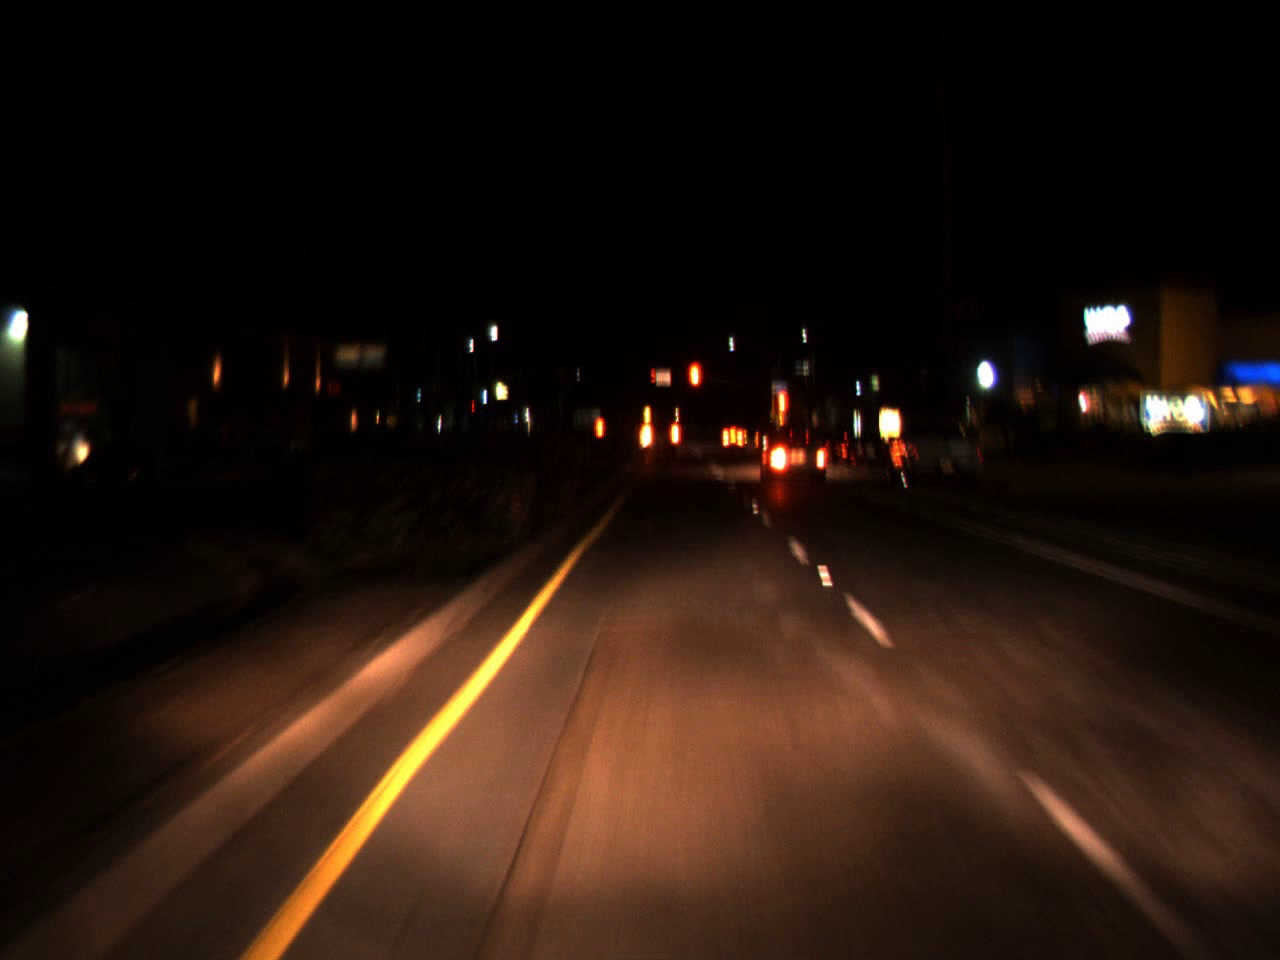stop: (686, 358, 704, 412), (772, 386, 791, 437), (649, 369, 656, 385)
